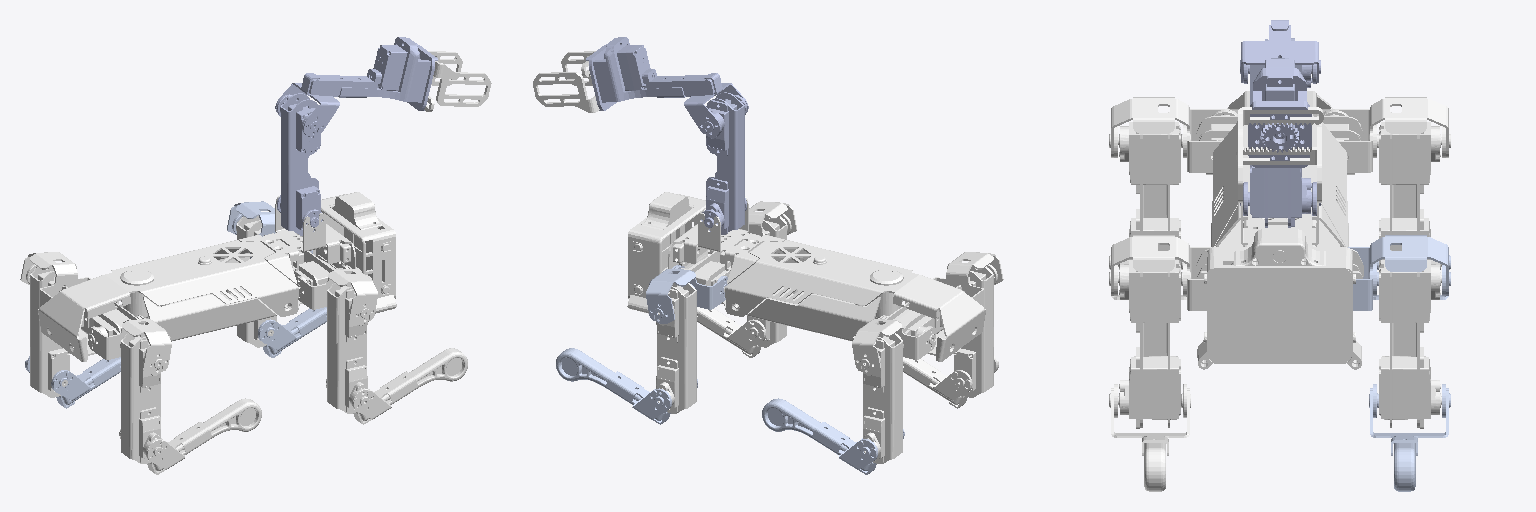
URDF robot description (lite3):
<?xml version="1.0" encoding="utf-8"?>
<!-- This URDF was automatically created by SolidWorks to URDF Exporter! Originally created by Stephen Brawner (brawner@gmail.com) 
     Commit Version: 1.6.0-4-g7f85cfe  Build Version: 1.6.7995.38578
     For more information, please see http://wiki.ros.org/sw_urdf_exporter -->
<robot name="lite3">
  <mujoco>
    <compiler strippath="false" fusestatic="false" discardvisual="false" />
  </mujoco>
  <link name="body">
    <inertial>
      <origin xyz="0.0089518 -2.6845e-05 0.0018147" rpy="0 0 0" />
      <mass value="0.15" />
      <inertia ixx="3.33519892e-05" ixy="-3.579589814e-10" ixz="4.500397778e-07" iyy="0.0001170100331" iyz="-2.451462662e-08" izz="0.0001351679777" />
    </inertial>
    <visual name="body_visual">
      <origin xyz="0 0 0" rpy="0 0 0" />
      <geometry>
        <mesh filename="assets/body.STL" />
      </geometry>
      <material name="body_visual_material">
        <color rgba="1 1 1 1" />
      </material>
    </visual>
    <collision name="body_collision">
      <origin xyz="0 0 0" rpy="0 0 0" />
      <geometry>
        <mesh filename="assets/body.STL" />
      </geometry>
    </collision>
  </link>
  <link name="mainarm">
    <inertial>
      <origin xyz="-0.0023546 0.0010091 0.026309" rpy="0 0 0" />
      <mass value="0.015" />
      <inertia ixx="3.504400152e-06" ixy="-2.051330586e-10" ixz="4.03390627e-10" iyy="3.708699794e-06" iyz="-2.043790979e-11" izz="4.85500054e-07" />
    </inertial>
    <visual name="mainarm_visual">
      <origin xyz="0 0 0" rpy="0 0 0" />
      <geometry>
        <mesh filename="assets/mainarm.STL" />
      </geometry>
      <material name="mainarm_visual_material">
        <color rgba="0.79216 0.81961 0.93333 1" />
      </material>
    </visual>
    <collision name="mainarm_collision">
      <origin xyz="0 0 0" rpy="0 0 0" />
      <geometry>
        <mesh filename="assets/mainarm.STL" />
      </geometry>
    </collision>
  </link>
  <joint name="mainarm_joint" type="revolute">
    <parent link="body" />
    <child link="mainarm" />
    <axis xyz="0 1 0" />
    <limit lower="-1.6" upper="1.3" effort="0.31" velocity="0" />
    <origin xyz="0.065016 -0.00075 0.03519" rpy="0 0 0" />
    <dynamics damping="0.08" friction="0.001" />
  </joint>
  <link name="forearm">
    <inertial>
      <origin xyz="0.041203 0.0007728 0.0094318" rpy="0 0 0" />
      <mass value="0.01" />
      <inertia ixx="4.604525399e-06" ixy="-4.10311282e-07" ixz="1.032863274e-06" iyy="4.605993769e-06" iyz="1.07395806e-06" izz="2.408980832e-06" />
    </inertial>
    <visual name="forearm_visual">
      <origin xyz="0 0 0" rpy="0 0 0" />
      <geometry>
        <mesh filename="assets/forearm.STL" />
      </geometry>
      <material name="forearm_visual_material">
        <color rgba="0.79216 0.81961 0.93333 1" />
      </material>
    </visual>
    <collision name="forearm_collision">
      <origin xyz="0 0 0" rpy="0 0 0" />
      <geometry>
        <mesh filename="assets/forearm.STL" />
      </geometry>
    </collision>
  </link>
  <joint name="forearm_joint" type="revolute">
    <parent link="mainarm" />
    <child link="forearm" />
    <axis xyz="0 1 0" />
    <limit lower="-1.47" upper="1.3" effort="0.31" velocity="0" />
    <origin xyz="0 0 0.0599" rpy="0 0 0" />
    <dynamics damping="0.08" friction="0.001" />
  </joint>
  <link name="L_calw">
    <inertial>
      <origin xyz="-0.0095549 0.011982 -0.0016877" rpy="0 0 0" />
      <mass value="0.003" />
      <inertia ixx="2.117e-07" ixy="0" ixz="0" iyy="2.6534e-07" iyz="0" izz="1.379e-07" />
    </inertial>
    <visual name="L_calw_visual">
      <origin xyz="0 0 0" rpy="0 0 0" />
      <geometry>
        <mesh filename="assets/L_calw.STL" />
      </geometry>
      <material name="L_calw_visual_material">
        <color rgba="1 1 1 1" />
      </material>
    </visual>
    <collision name="L_calw_collision">
      <origin xyz="0 0 0" rpy="0 0 0" />
      <geometry>
        <mesh filename="assets/L_calw.STL" />
      </geometry>
    </collision>
  </link>
  <joint name="L_claw_joint" type="fixed">
    <parent link="forearm" />
    <child link="L_calw" />
    <origin xyz="0.097841 0 -4.8373e-05" rpy="0 0 0" />
  </joint>
  <link name="R_claw">
    <inertial>
      <origin xyz="-0.0075056 -0.010482 0.006149" rpy="0 0 0" />
      <mass value="0.003" />
      <inertia ixx="2.117e-07" ixy="0" ixz="0" iyy="2.1809e-07" iyz="0" izz="1.8515e-07" />
    </inertial>
    <visual name="R_claw_visual">
      <origin xyz="0 0 0" rpy="0 0 0" />
      <geometry>
        <mesh filename="assets/R_claw.STL" />
      </geometry>
      <material name="R_claw_visual_material">
        <color rgba="1 1 1 1" />
      </material>
    </visual>
    <collision name="R_claw_collision">
      <origin xyz="0 0 0" rpy="0 0 0" />
      <geometry>
        <mesh filename="assets/R_claw.STL" />
      </geometry>
    </collision>
  </link>
  <joint name="R_claw_joint" type="fixed">
    <parent link="forearm" />
    <child link="R_claw" />
    <origin xyz="0.097841 0 -4.8373e-05" rpy="0 0 0" />
  </joint>
  <link name="FR_hip">
    <inertial>
      <origin xyz="-0.016365 -0.019585 0.0038725" rpy="0 0 0" />
      <mass value="0.005" />
      <inertia ixx="1.235595896e-06" ixy="1.733448117e-08" ixz="-2.139515329e-08" iyy="7.641199607e-07" iyz="2.347287789e-07" izz="1.430497144e-06" />
    </inertial>
    <visual name="FR_hip_visual">
      <origin xyz="0 0 0" rpy="0 0 0" />
      <geometry>
        <mesh filename="assets/FR_hip.STL" />
      </geometry>
      <material name="FR_hip_visual_material">
        <color rgba="1 1 1 1" />
      </material>
    </visual>
    <collision name="FR_hip_collision">
      <origin xyz="0 0 0" rpy="0 0 0" />
      <geometry>
        <mesh filename="assets/FR_hip.STL" />
      </geometry>
    </collision>
  </link>
  <joint name="FR_hip_joint" type="revolute">
    <parent link="body" />
    <child link="FR_hip" />
    <axis xyz="-1 0 0" />
    <limit lower="-0.6" upper="0.9" effort="0.31" velocity="0" />
    <origin xyz="0.08385 -0.0225 0" rpy="0 0 0" />
    <dynamics damping="0.08" friction="0.001" />
  </joint>
  <link name="FR_thigh">
    <inertial>
      <origin xyz="-0.0027307 0.017449 -0.027452" rpy="0 0 0" />
      <mass value="0.026" />
      <inertia ixx="3.111300413e-06" ixy="2.57747006e-10" ixz="2.566303766e-10" iyy="3.262799561e-06" iyz="-6.983630902e-12" izz="5.339900256e-07" />
    </inertial>
    <visual name="FR_thigh_visual">
      <origin xyz="0 0 0" rpy="0 0 0" />
      <geometry>
        <mesh filename="assets/FR_thigh.STL" />
      </geometry>
      <material name="FR_thigh_visual_material">
        <color rgba="1 1 1 1" />
      </material>
    </visual>
    <collision name="FR_thigh_collision">
      <origin xyz="0 0 0" rpy="0 0 0" />
      <geometry>
        <mesh filename="assets/FR_thigh.STL" />
      </geometry>
    </collision>
  </link>
  <joint name="FR_thigh_joint" type="revolute">
    <parent link="FR_hip" />
    <child link="FR_thigh" />
    <axis xyz="0 1 0" />
    <limit lower="-1.43" upper="1.76" effort="0.31" velocity="0" />
    <origin xyz="-0.0169 -0.047399 0" rpy="0 0 0" />
    <dynamics damping="0.08" friction="0.001" />
  </joint>
  <link name="FR_shank">
    <inertial>
      <origin xyz="0.027207 0.018103 -0.0051258" rpy="0 0 0" />
      <mass value="0.01" />
      <inertia ixx="7.33588587e-07" ixy="-2.90509213e-08" ixz="-6.001985912e-07" iyy="2.922697016e-06" iyz="7.836534952e-10" izz="2.995502396e-06" />
    </inertial>
    <visual name="FR_shank_visual">
      <origin xyz="0 0 0" rpy="0 0 0" />
      <geometry>
        <mesh filename="assets/FR_shank.STL" />
      </geometry>
      <material name="FR_shank_visual_material">
        <color rgba="1 1 1 1" />
      </material>
    </visual>
    <collision name="FR_shank_collision">
      <origin xyz="0 0 0" rpy="0 0 0" />
      <geometry>
        <mesh filename="assets/FR_shank.STL" />
      </geometry>
    </collision>
  </link>
  <joint name="FR_shank_joint" type="revolute">
    <parent link="FR_thigh" />
    <child link="FR_shank" />
    <axis xyz="0 -1 0" />
    <limit lower="-2.26" upper="1.3" effort="0.31" velocity="0" />
    <origin xyz="0 0 -0.0549" rpy="0 0 0" />
    <dynamics damping="0.08" friction="0.001" />
  </joint>
  <link name="FL_hip">
    <inertial>
      <origin xyz="-0.016365 0.019585 0.0038725" rpy="0 0 0" />
      <mass value="0.005" />
      <inertia ixx="1.235595896e-06" ixy="-1.733448117e-08" ixz="-2.139515329e-08" iyy="7.641199607e-07" iyz="-2.347287789e-07" izz="1.430497144e-06" />
    </inertial>
    <visual name="FL_hip_visual">
      <origin xyz="0 0 0" rpy="0 0 0" />
      <geometry>
        <mesh filename="assets/FL_hip.STL" />
      </geometry>
      <material name="FL_hip_visual_material">
        <color rgba="0.86667 0.9098 1 1" />
      </material>
    </visual>
    <collision name="FL_hip_collision">
      <origin xyz="0 0 0" rpy="0 0 0" />
      <geometry>
        <mesh filename="assets/FL_hip.STL" />
      </geometry>
    </collision>
  </link>
  <joint name="FL_hip_joint" type="revolute">
    <parent link="body" />
    <child link="FL_hip" />
    <axis xyz="-1 0 0" />
    <limit lower="-0.9" upper="0.6" effort="0.31" velocity="0" />
    <origin xyz="0.08385 0.0225 0" rpy="0 0 0" />
    <dynamics damping="0.08" friction="0.001" />
  </joint>
  <link name="FL_thigh">
    <inertial>
      <origin xyz="-0.0027306 -0.017449 -0.027452" rpy="0 0 0" />
      <mass value="0.026" />
      <inertia ixx="3.111300418e-06" ixy="-2.590325747e-10" ixz="2.508499932e-10" iyy="3.262799557e-06" iyz="7.742181015e-12" izz="5.339900244e-07" />
    </inertial>
    <visual name="FL_thigh_visual">
      <origin xyz="0 0 0" rpy="0 0 0" />
      <geometry>
        <mesh filename="assets/FL_thigh.STL" />
      </geometry>
      <material name="FL_thigh_visual_material">
        <color rgba="1 1 1 1" />
      </material>
    </visual>
    <collision name="FL_thigh_collision">
      <origin xyz="0 0 0" rpy="0 0 0" />
      <geometry>
        <mesh filename="assets/FL_thigh.STL" />
      </geometry>
    </collision>
  </link>
  <joint name="FL_thigh_joint" type="revolute">
    <parent link="FL_hip" />
    <child link="FL_thigh" />
    <axis xyz="0 1 0" />
    <limit lower="-1.43" upper="1.76" effort="0.31" velocity="0" />
    <origin xyz="-0.0169 0.047399 0" rpy="0 0 0" />
    <dynamics damping="0.08" friction="0.001" />
  </joint>
  <link name="FL_shank">
    <inertial>
      <origin xyz="0.027208 -0.018103 -0.0051257" rpy="0 0 0" />
      <mass value="0.01" />
      <inertia ixx="7.335885958e-07" ixy="2.905174261e-08" ixz="-6.001985674e-07" iyy="2.922697005e-06" iyz="-7.83569823e-10" izz="2.995502399e-06" />
    </inertial>
    <visual name="FL_shank_visual">
      <origin xyz="0 0 0" rpy="0 0 0" />
      <geometry>
        <mesh filename="assets/FL_shank.STL" />
      </geometry>
      <material name="FL_shank_visual_material">
        <color rgba="0.86667 0.9098 1 1" />
      </material>
    </visual>
    <collision name="FL_shank_collision">
      <origin xyz="0 0 0" rpy="0 0 0" />
      <geometry>
        <mesh filename="assets/FL_shank.STL" />
      </geometry>
    </collision>
  </link>
  <joint name="FL_shank_joint" type="revolute">
    <parent link="FL_thigh" />
    <child link="FL_shank" />
    <axis xyz="0 -1 0" />
    <limit lower="-2.26" upper="1.3" effort="0.31" velocity="0" />
    <origin xyz="0 0 -0.0549" rpy="0 0 0" />
    <dynamics damping="0.08" friction="0.001" />
  </joint>
  <link name="RR_hip">
    <inertial>
      <origin xyz="0.017318 -0.019585 0.0038725" rpy="0 0 0" />
      <mass value="0.005" />
      <inertia ixx="1.235595896e-06" ixy="1.733448117e-08" ixz="-2.139515329e-08" iyy="7.641199607e-07" iyz="2.347287789e-07" izz="1.430497144e-06" />
    </inertial>
    <visual name="RR_hip_visual">
      <origin xyz="0 0 0" rpy="0 0 0" />
      <geometry>
        <mesh filename="assets/RR_hip.STL" />
      </geometry>
      <material name="RR_hip_visual_material">
        <color rgba="1 1 1 1" />
      </material>
    </visual>
    <collision name="RR_hip_collision">
      <origin xyz="0 0 0" rpy="0 0 0" />
      <geometry>
        <mesh filename="assets/RR_hip.STL" />
      </geometry>
    </collision>
  </link>
  <joint name="RR_hip_joint" type="revolute">
    <parent link="body" />
    <child link="RR_hip" />
    <axis xyz="-1 0 0" />
    <limit lower="-0.6" upper="0.9" effort="0.31" velocity="0" />
    <origin xyz="-0.08385 -0.0225 0" rpy="0 0 0" />
    <dynamics damping="0.08" friction="0.001" />
  </joint>
  <link name="RR_thigh">
    <inertial>
      <origin xyz="-0.0027307 0.017449 -0.027452" rpy="0 0 0" />
      <mass value="0.026" />
      <inertia ixx="3.111300413e-06" ixy="2.577470059e-10" ixz="2.566300131e-10" iyy="3.262799561e-06" iyz="-6.982472875e-12" izz="5.339900256e-07" />
    </inertial>
    <visual name="RR_thigh_visual">
      <origin xyz="0 0 0" rpy="0 0 0" />
      <geometry>
        <mesh filename="assets/RR_thigh.STL" />
      </geometry>
      <material name="RR_thigh_visual_material">
        <color rgba="1 1 1 1" />
      </material>
    </visual>
    <collision name="RR_thigh_collision">
      <origin xyz="0 0 0" rpy="0 0 0" />
      <geometry>
        <mesh filename="assets/RR_thigh.STL" />
      </geometry>
    </collision>
  </link>
  <joint name="RR_thigh_joint" type="revolute">
    <parent link="RR_hip" />
    <child link="RR_thigh" />
    <axis xyz="0 1 0" />
    <limit lower="-1.43" upper="1.76" effort="0.31" velocity="0" />
    <origin xyz="0.0169 -0.047399 0" rpy="0 0 0" />
    <dynamics damping="0.08" friction="0.001" />
  </joint>
  <link name="RR_shank">
    <inertial>
      <origin xyz="0.027208 0.018103 -0.0051258" rpy="0 0 0" />
      <mass value="0.01" />
      <inertia ixx="7.335885726e-07" ixy="-2.905084473e-08" ixz="-6.001985691e-07" iyy="2.922697047e-06" iyz="7.84065736e-10" izz="2.99550238e-06" />
    </inertial>
    <visual name="RR_shank_visual">
      <origin xyz="0 0 0" rpy="0 0 0" />
      <geometry>
        <mesh filename="assets/RR_shank.STL" />
      </geometry>
      <material name="RR_shank_visual_material">
        <color rgba="1 1 1 1" />
      </material>
    </visual>
    <collision name="RR_shank_collision">
      <origin xyz="0 0 0" rpy="0 0 0" />
      <geometry>
        <mesh filename="assets/RR_shank.STL" />
      </geometry>
    </collision>
  </link>
  <joint name="RR_shank_joint" type="revolute">
    <parent link="RR_thigh" />
    <child link="RR_shank" />
    <axis xyz="0 -1 0" />
    <limit lower="-2.26" upper="1.3" effort="0.31" velocity="0" />
    <origin xyz="0 0 -0.0549" rpy="0 0 0" />
    <dynamics damping="0.08" friction="0.001" />
  </joint>
  <link name="RL_hip">
    <inertial>
      <origin xyz="0.017318 0.019585 0.0038725" rpy="0 0 0" />
      <mass value="0.005" />
      <inertia ixx="1.235595896e-06" ixy="-1.733448117e-08" ixz="-2.139515329e-08" iyy="7.641199607e-07" iyz="-2.347287789e-07" izz="1.430497144e-06" />
    </inertial>
    <visual name="RL_hip_visual">
      <origin xyz="0 0 0" rpy="0 0 0" />
      <geometry>
        <mesh filename="assets/RL_hip.STL" />
      </geometry>
      <material name="RL_hip_visual_material">
        <color rgba="1 1 1 1" />
      </material>
    </visual>
    <collision name="RL_hip_collision">
      <origin xyz="0 0 0" rpy="0 0 0" />
      <geometry>
        <mesh filename="assets/RL_hip.STL" />
      </geometry>
    </collision>
  </link>
  <joint name="RL_hip_joint" type="revolute">
    <parent link="body" />
    <child link="RL_hip" />
    <axis xyz="-1 0 0" />
    <limit lower="-0.9" upper="0.6" effort="0.31" velocity="0" />
    <origin xyz="-0.08385 0.0225 0" rpy="0 0 0" />
    <dynamics damping="0.08" friction="0.001" />
  </joint>
  <link name="RL_thigh">
    <inertial>
      <origin xyz="-0.0027306 -0.017449 -0.027452" rpy="0 0 0" />
      <mass value="0.026" />
      <inertia ixx="3.111300418e-06" ixy="-2.590325749e-10" ixz="2.508201025e-10" iyy="3.262799557e-06" iyz="7.74524426e-12" izz="5.339900244e-07" />
    </inertial>
    <visual name="RL_thigh_visual">
      <origin xyz="0 0 0" rpy="0 0 0" />
      <geometry>
        <mesh filename="assets/RL_thigh.STL" />
      </geometry>
      <material name="RL_thigh_visual_material">
        <color rgba="1 1 1 1" />
      </material>
    </visual>
    <collision name="RL_thigh_collision">
      <origin xyz="0 0 0" rpy="0 0 0" />
      <geometry>
        <mesh filename="assets/RL_thigh.STL" />
      </geometry>
    </collision>
  </link>
  <joint name="RL_thigh_joint" type="revolute">
    <parent link="RL_hip" />
    <child link="RL_thigh" />
    <axis xyz="0 1 0" />
    <limit lower="-1.43" upper="1.76" effort="0.31" velocity="0" />
    <origin xyz="0.0169 0.047399 0" rpy="0 0 0" />
    <dynamics damping="0.08" friction="0.001" />
  </joint>
  <link name="RL_shank">
    <inertial>
      <origin xyz="0.027208 -0.018103 -0.0051257" rpy="0 0 0" />
      <mass value="0.01" />
      <inertia ixx="7.335885821e-07" ixy="2.905157295e-08" ixz="-6.00198551e-07" iyy="2.922697034e-06" iyz="-7.839409927e-10" izz="2.995502384e-06" />
    </inertial>
    <visual name="RL_shank_visual">
      <origin xyz="0 0 0" rpy="0 0 0" />
      <geometry>
        <mesh filename="assets/RL_shank.STL" />
      </geometry>
      <material name="RL_shank_visual_material">
        <color rgba="0.86667 0.9098 1 1" />
      </material>
    </visual>
    <collision name="RL_shank_collision">
      <origin xyz="0 0 0" rpy="0 0 0" />
      <geometry>
        <mesh filename="assets/RL_shank.STL" />
      </geometry>
    </collision>
  </link>
  <joint name="RL_shank_joint" type="revolute">
    <parent link="RL_thigh" />
    <child link="RL_shank" />
    <axis xyz="0 -1 0" />
    <limit lower="-2.26" upper="1.3" effort="0.31" velocity="0" />
    <origin xyz="0 0 -0.0549" rpy="0 0 0" />
    <dynamics damping="0.08" friction="0.001" />
  </joint>
</robot>

--- What the picture shows (computed from the rendered views, not written in the file) ---
3 views of the same robot in one strip: view 1: azimuth 30°, elevation 25°; view 2: azimuth 150°, elevation 25°; view 3: azimuth 270°, elevation 25° (orthographic).
Robot: lite3 — 17 links, 16 joints (14 revolute, 2 fixed); root link body; default pose: every joint at zero.
Links seen in each view (by area): view 1: body, forearm, mainarm, FR_thigh, RR_thigh, FR_shank, RR_shank, RL_thigh, RR_hip, FR_hip, RL_shank, FL_shank (+4 smaller); view 2: body, forearm, mainarm, FL_thigh, RL_thigh, RL_shank, FL_shank, RR_thigh, RL_hip, FL_hip, RR_shank, FR_shank (+4 smaller); view 3: body, FR_thigh, FL_thigh, forearm, RR_thigh, RL_thigh, RR_hip, RL_hip, mainarm, FR_hip, FL_hip, FR_shank (+3 smaller).
Link boxes in pixels (<box>): body: <box>38,192,396,361</box>; forearm: <box>275,37,437,136</box>; mainarm: <box>277,93,322,235</box>; FR_thigh: <box>327,283,367,413</box>; RR_thigh: <box>121,333,160,463</box>; FR_shank: <box>326,348,467,424</box>; RR_shank: <box>119,398,261,474</box>; RL_thigh: <box>30,266,69,397</box>; RR_hip: <box>88,315,171,373</box>; FR_hip: <box>296,265,377,323</box>; RL_shank: <box>25,356,120,408</box>; FL_shank: <box>258,307,326,357</box>; body: <box>627,192,985,361</box>; forearm: <box>586,37,748,136</box>; mainarm: <box>701,92,746,234</box>; FL_thigh: <box>656,283,696,413</box>; RL_thigh: <box>863,333,902,463</box>; RL_shank: <box>762,398,904,474</box>; FL_shank: <box>556,348,697,424</box>; RR_thigh: <box>954,266,993,397</box>; RL_hip: <box>852,315,935,373</box>; FL_hip: <box>646,265,727,323</box>; RR_shank: <box>903,356,998,408</box>; FR_shank: <box>697,307,765,357</box>; body: <box>1196,91,1363,369</box>; FR_thigh: <box>1118,250,1180,428</box>; FL_thigh: <box>1379,250,1441,428</box>; forearm: <box>1240,20,1320,167</box>; RR_thigh: <box>1118,112,1180,269</box>; RL_thigh: <box>1379,112,1441,269</box>; RR_hip: <box>1109,97,1237,172</box>; RL_hip: <box>1324,97,1450,172</box>; mainarm: <box>1240,38,1320,227</box>; FR_hip: <box>1109,235,1211,310</box>; FL_hip: <box>1348,235,1450,310</box>; FR_shank: <box>1109,384,1190,491</box>.
Bounding box of the posed robot: 0.2717 × 0.1398 × 0.2026 m (x, y, z).
Meshes: 17 distinct files referenced, 17 mesh visuals loaded (17 binary STL).
